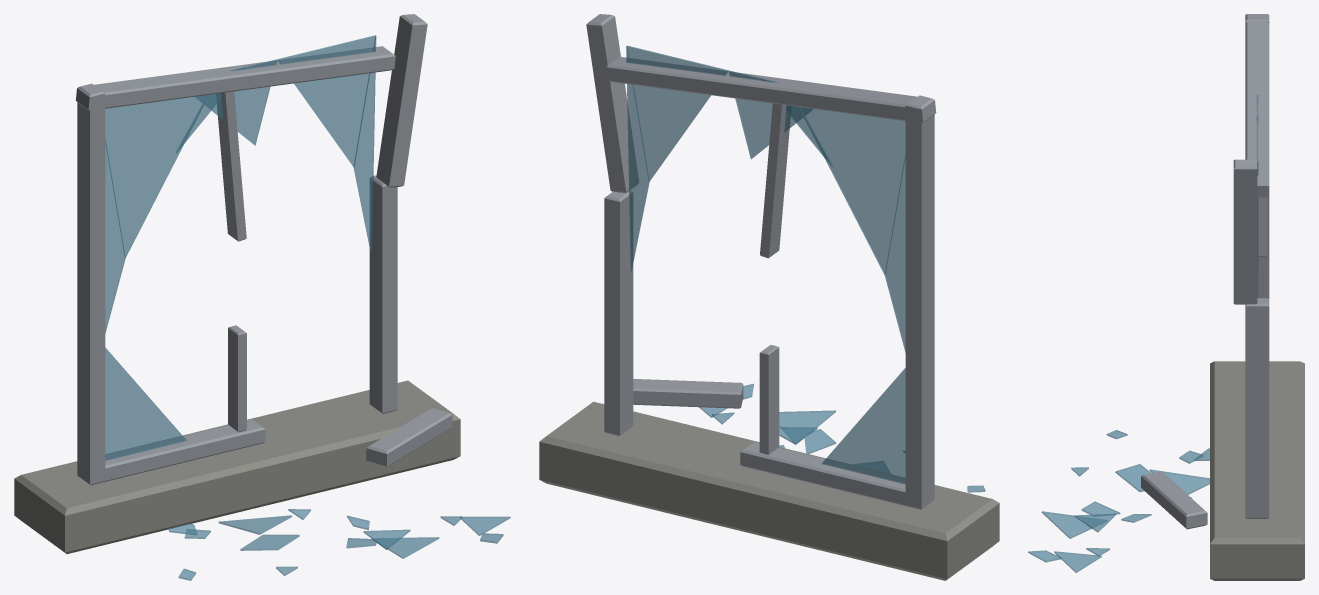
Rendered from DESTROY_03.obj.
3 renders of one model, left to right at view 1: azimuth 30°, elevation 25°; view 2: azimuth 150°, elevation 25°; view 3: azimuth 270°, elevation 25°, orthographic. The views are drawn at different scales.
Parts seen in each view (by area): view 1: DESTROY_03__plinth, DESTROY_03__left_jamb, DESTROY_03__glass_remnant_1, DESTROY_03__header, DESTROY_03__right_jamb_lower, DESTROY_03__right_jamb_upper, DESTROY_03__glass_fallen, DESTROY_03__glass_remnant_3, DESTROY_03__glass_remnant_5, DESTROY_03__sill_left, DESTROY_03__mullion_upper, DESTROY_03__sill_right_fallen (+4 smaller); view 2: DESTROY_03__plinth, DESTROY_03__left_jamb, DESTROY_03__glass_remnant_1, DESTROY_03__header, DESTROY_03__right_jamb_lower, DESTROY_03__glass_remnant_3, DESTROY_03__glass_remnant_5, DESTROY_03__right_jamb_upper, DESTROY_03__sill_left, DESTROY_03__mullion_upper, DESTROY_03__sill_right_fallen, DESTROY_03__glass_fallen (+5 smaller); view 3: DESTROY_03__plinth, DESTROY_03__right_jamb_lower, DESTROY_03__glass_fallen, DESTROY_03__header, DESTROY_03__right_jamb_upper, DESTROY_03__sill_right_fallen, DESTROY_03__left_jamb, DESTROY_03__mullion_upper.
Boxes of the visible parts, x1,y1,x2,y2 form: DESTROY_03__plinth: [14, 380, 460, 553]; DESTROY_03__left_jamb: [77, 83, 105, 485]; DESTROY_03__glass_remnant_1: [105, 95, 208, 257]; DESTROY_03__header: [76, 46, 395, 110]; DESTROY_03__right_jamb_lower: [369, 175, 397, 413]; DESTROY_03__right_jamb_upper: [376, 14, 427, 187]; DESTROY_03__glass_fallen: [168, 509, 510, 580]; DESTROY_03__glass_remnant_3: [277, 35, 376, 167]; DESTROY_03__glass_remnant_5: [105, 347, 186, 460]; DESTROY_03__sill_left: [77, 419, 265, 484]; DESTROY_03__mullion_upper: [217, 91, 246, 241]; DESTROY_03__sill_right_fallen: [366, 408, 452, 467]; DESTROY_03__plinth: [539, 401, 999, 580]; DESTROY_03__left_jamb: [905, 95, 934, 509]; DESTROY_03__glass_remnant_1: [798, 107, 905, 274]; DESTROY_03__header: [606, 57, 936, 123]; DESTROY_03__right_jamb_lower: [604, 191, 633, 435]; DESTROY_03__glass_remnant_3: [626, 45, 728, 181]; DESTROY_03__glass_remnant_5: [821, 368, 905, 484]; DESTROY_03__right_jamb_upper: [586, 14, 638, 192]; DESTROY_03__sill_left: [740, 442, 934, 509]; DESTROY_03__mullion_upper: [760, 103, 790, 258]; DESTROY_03__sill_right_fallen: [633, 379, 743, 408]; DESTROY_03__glass_fallen: [699, 383, 985, 492]; DESTROY_03__plinth: [1210, 361, 1304, 580]; DESTROY_03__right_jamb_lower: [1245, 298, 1269, 518]; DESTROY_03__glass_fallen: [1028, 430, 1209, 572]; DESTROY_03__header: [1245, 21, 1269, 197]; DESTROY_03__right_jamb_upper: [1233, 159, 1257, 304]; DESTROY_03__sill_right_fallen: [1141, 471, 1207, 529]; DESTROY_03__left_jamb: [1245, 14, 1269, 298]; DESTROY_03__mullion_upper: [1258, 197, 1266, 256].
Size of the model in its own units: 1.8 by 1.93 by 1.16.
